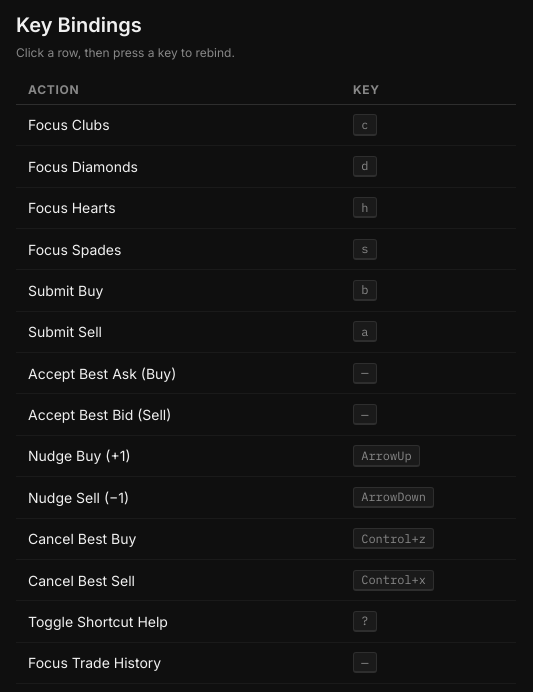
it: KeybindSettings › modifier+key combination is serialized correctly
The width and height of the screenshot is (533, 692).
Click the button "Cancel Best Buy Control+z": (82, 539) top-left (16, 518), bottom-right (516, 559)
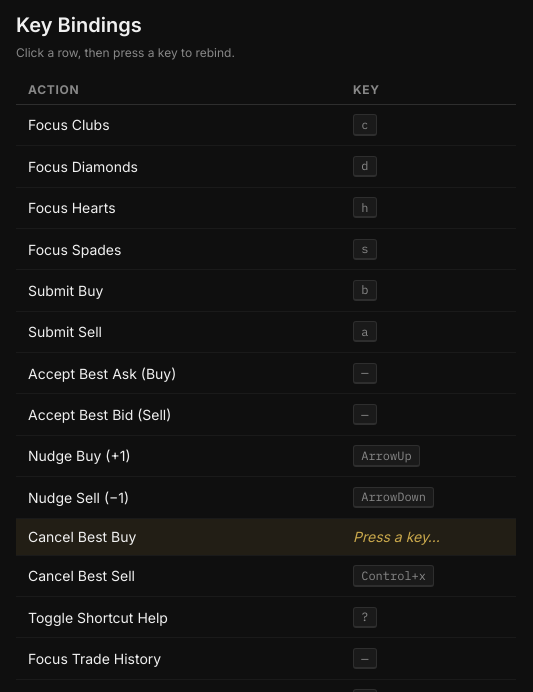
// Simulate pressing Ctrl+k
Press k
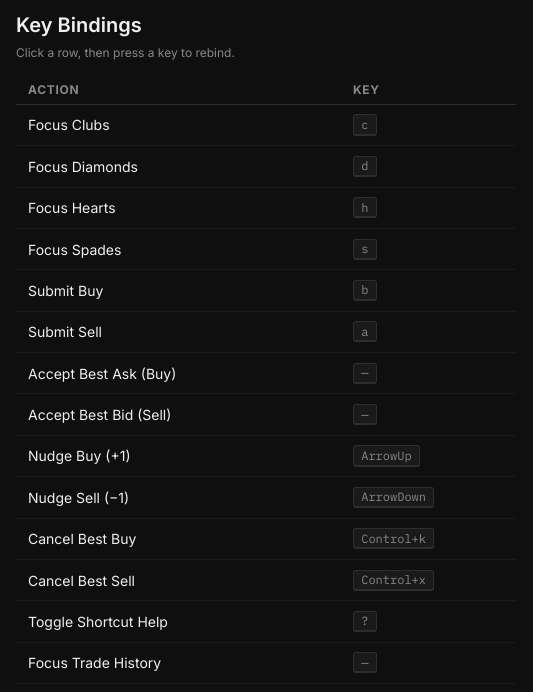
Check: the text "Press a key…" is gone
Check: the text "Control+k" is shown, box top-left (353, 528), bottom-right (434, 549)
